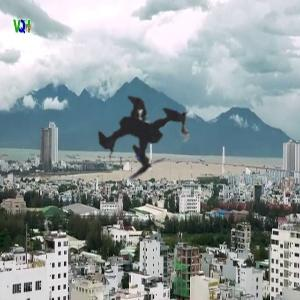drone: (18, 10, 275, 267)
